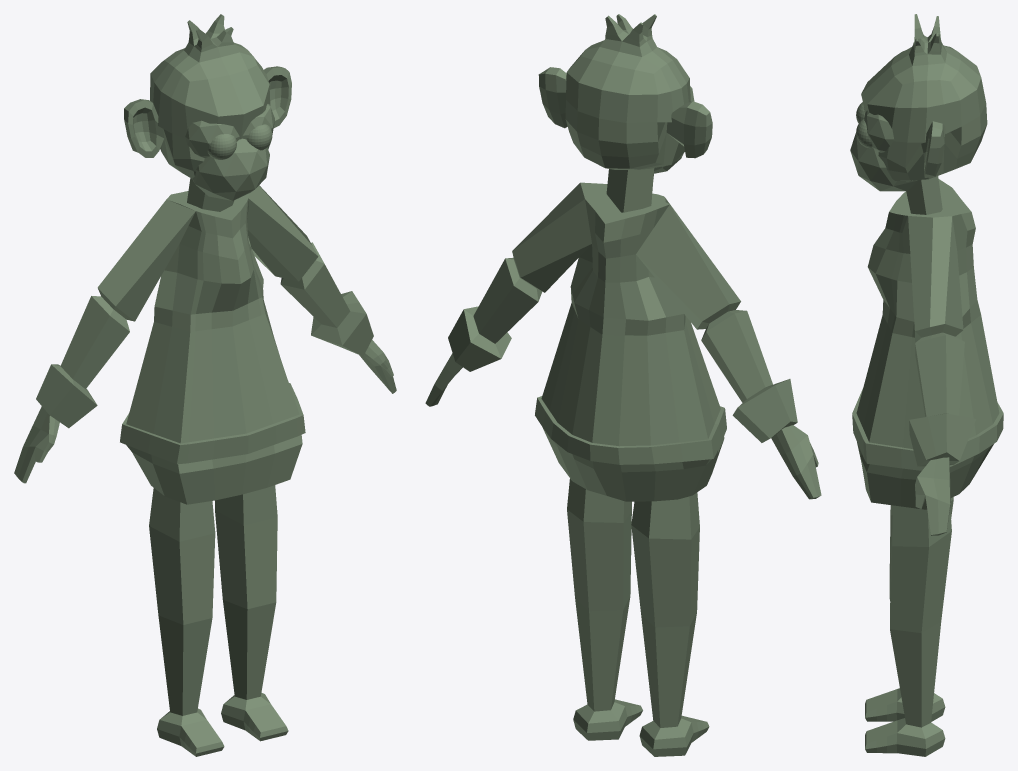
Rendered from MonkeyStatue.fbx.
The picture shows the model from 3 angles, left to right: view 1: azimuth 30°, elevation 25°; view 2: azimuth 150°, elevation 25°; view 3: azimuth 270°, elevation 25°; orthographic projection. The views are drawn at different scales.
Visible parts, largest first — view 1: Monkey Statue; view 2: Monkey Statue; view 3: Monkey Statue.
Part boxes in pixels (box(x1,y1,x2,y2)): Monkey Statue: box(14, 14, 396, 756); Monkey Statue: box(425, 14, 821, 756); Monkey Statue: box(850, 14, 1003, 756).
Bounding box in the file's own units: 1.72 × 0.6067 × 3.08.
